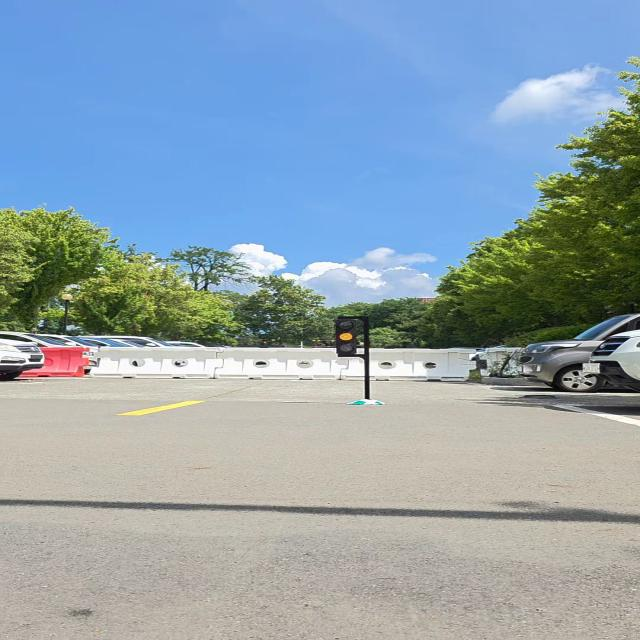yellow: (334, 318, 359, 356)
